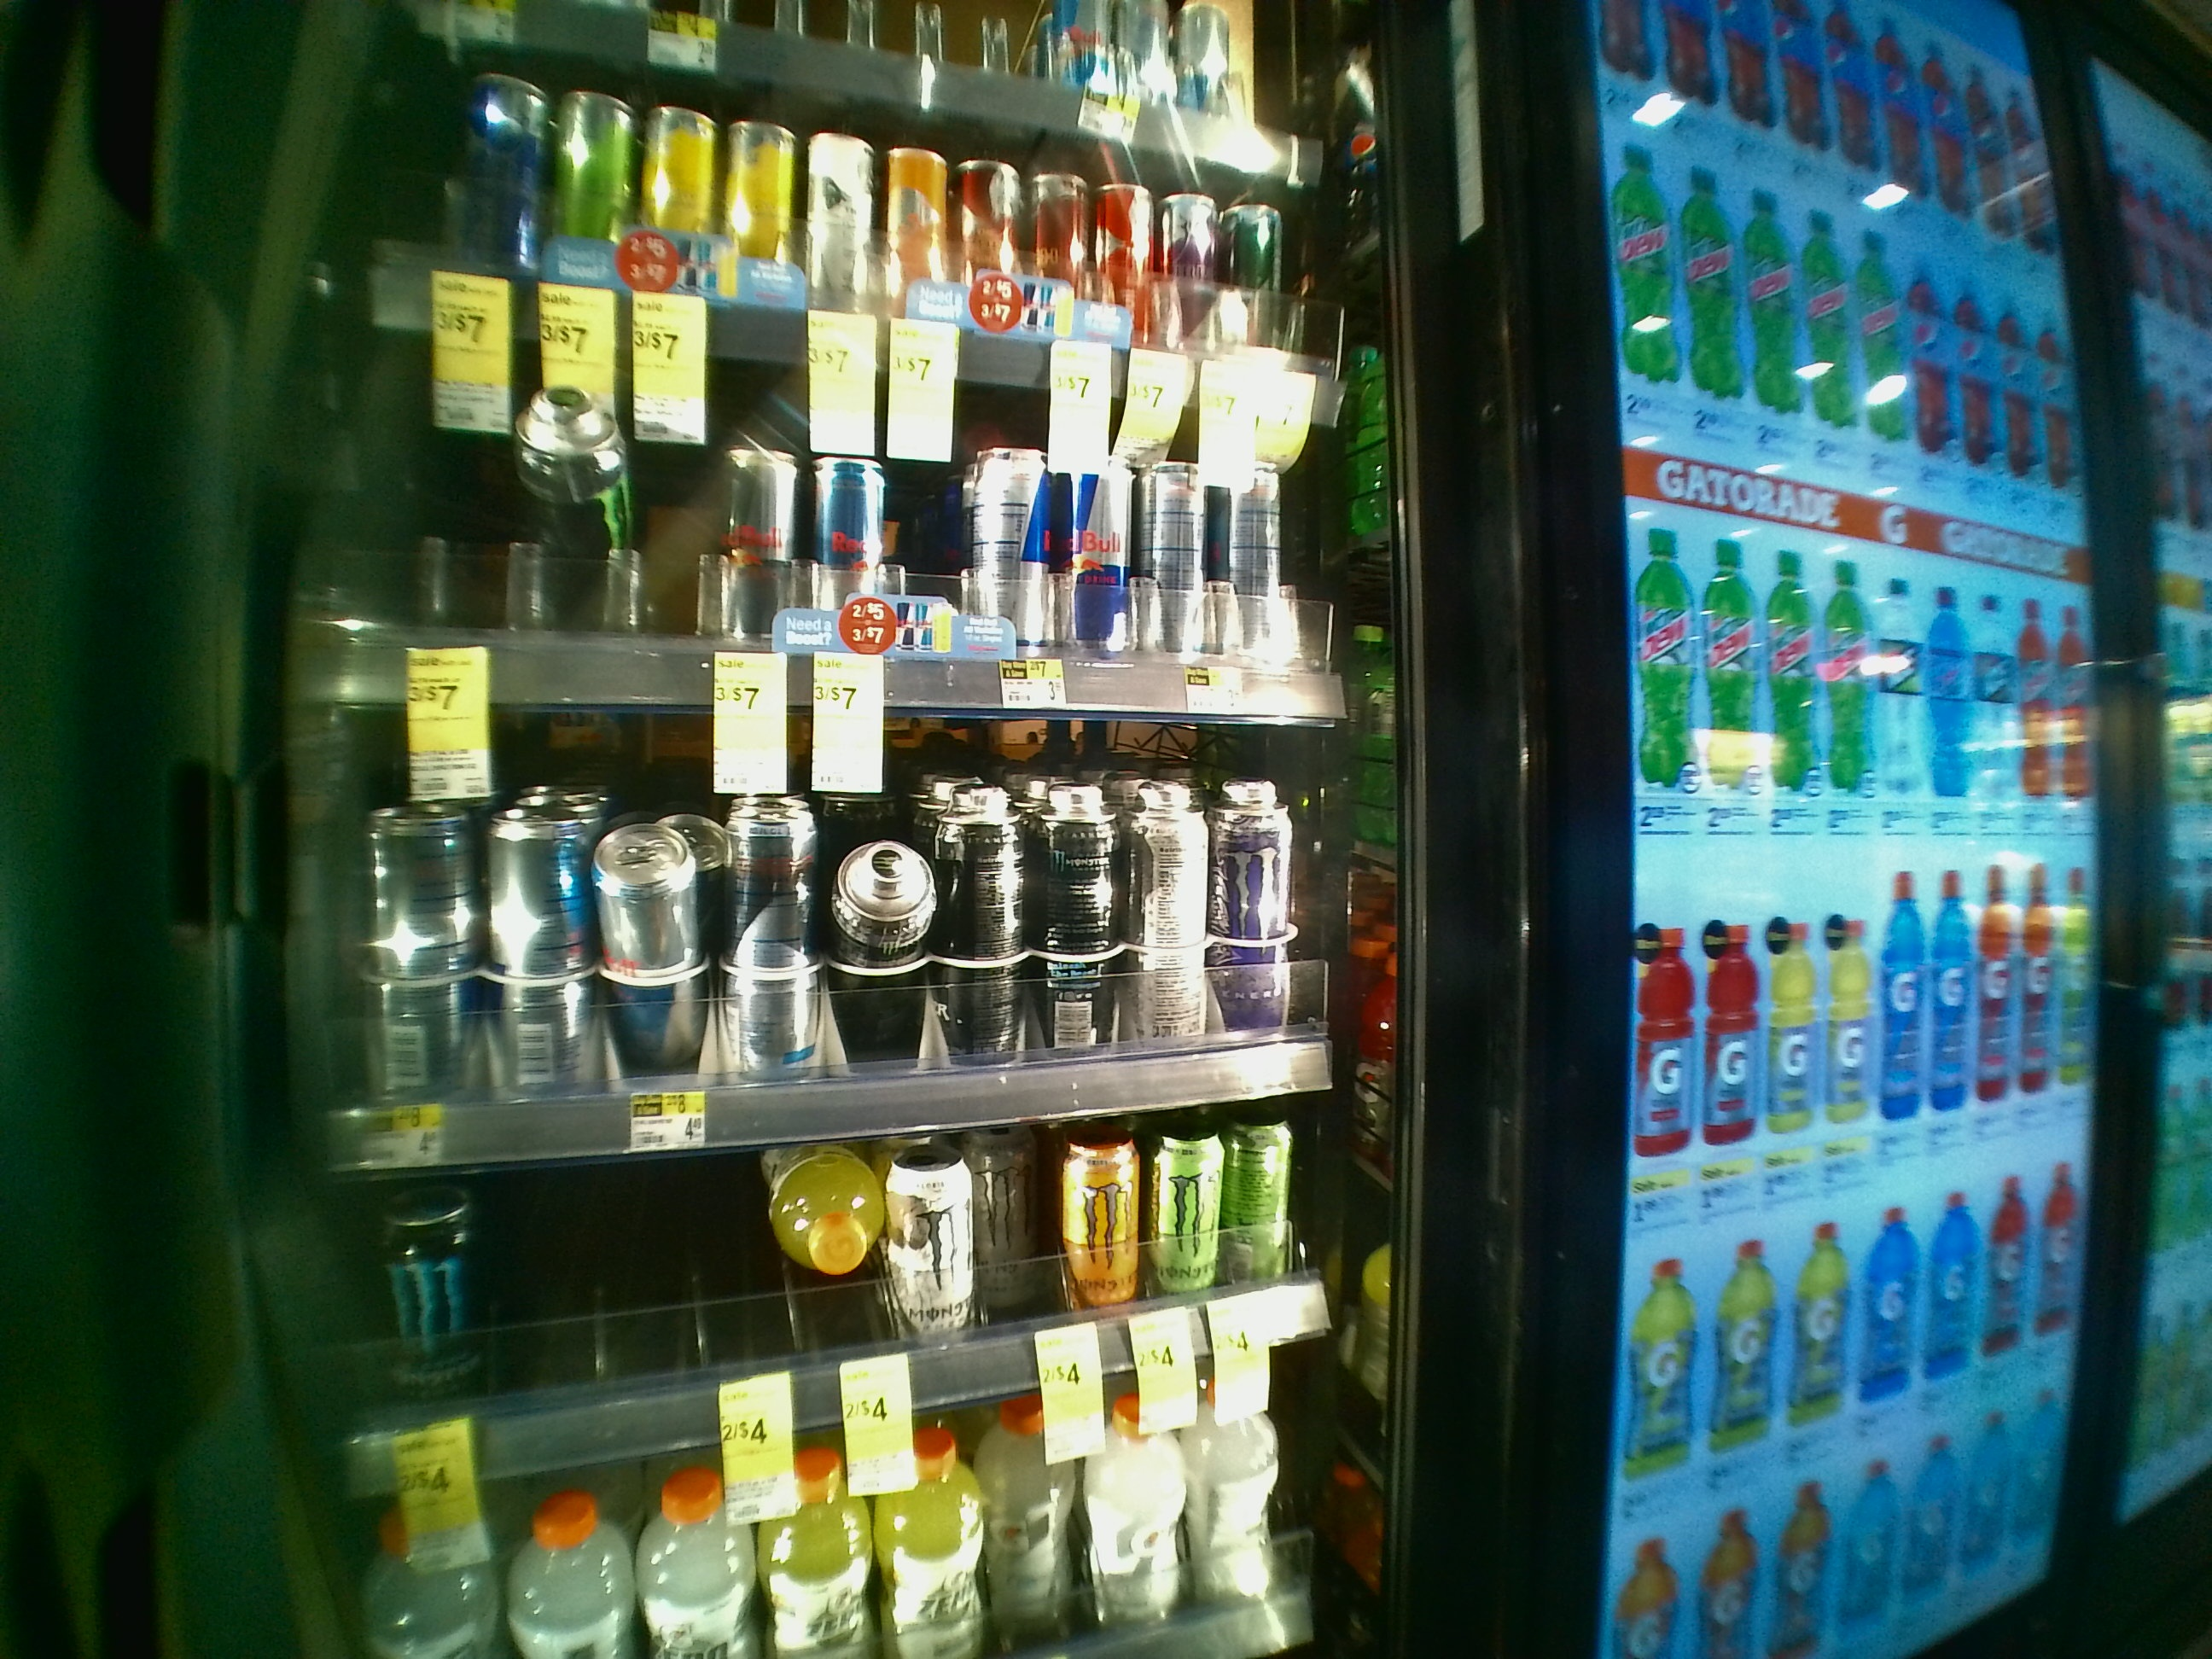shelf: (270, 702, 1393, 1131)
